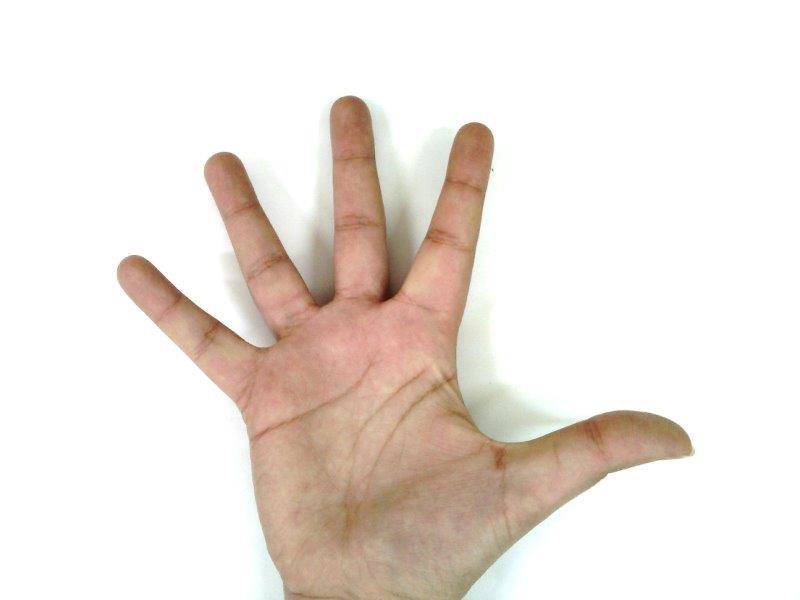hand: (116, 94, 693, 596)
